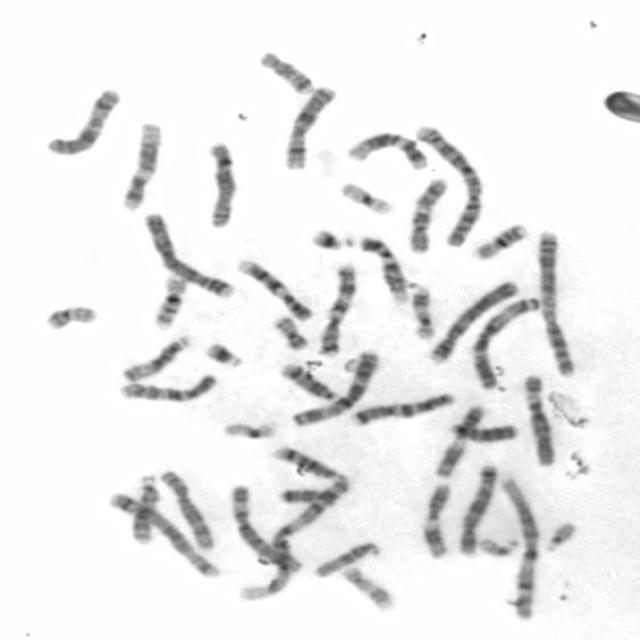A1: (232, 472, 352, 604), (497, 472, 541, 621)
A2: (410, 122, 486, 249), (532, 225, 578, 378)
A3: (288, 346, 382, 428), (467, 293, 542, 391)
B4: (141, 208, 235, 299), (424, 277, 518, 365)
B5: (102, 488, 223, 580), (454, 460, 499, 557)
C10: (403, 174, 450, 256), (115, 370, 219, 405)
C11: (429, 401, 488, 479), (417, 480, 454, 561)
C12: (117, 117, 163, 213), (341, 128, 429, 170)
C6: (227, 480, 303, 574), (520, 369, 557, 468)
C7: (313, 260, 358, 357), (347, 389, 456, 426)
C8: (155, 466, 217, 552), (201, 137, 239, 231)
C9: (234, 255, 313, 323), (355, 232, 411, 304)
D13: (126, 471, 161, 545), (446, 418, 519, 443)
D14: (269, 443, 343, 481), (277, 360, 339, 403)
D15: (117, 332, 193, 384), (310, 538, 382, 579)
E16: (468, 220, 528, 261), (148, 271, 188, 330)
E17: (338, 562, 395, 614), (407, 282, 436, 342)
E18: (256, 46, 314, 96), (276, 488, 338, 508)
F19: (336, 178, 395, 216), (218, 417, 279, 441)
F20: (41, 301, 100, 332), (270, 312, 311, 352)
G21: (201, 338, 245, 368), (305, 225, 353, 252)
G22: (541, 518, 579, 552), (475, 533, 521, 558)
X: (41, 84, 122, 159), (278, 82, 337, 172)
